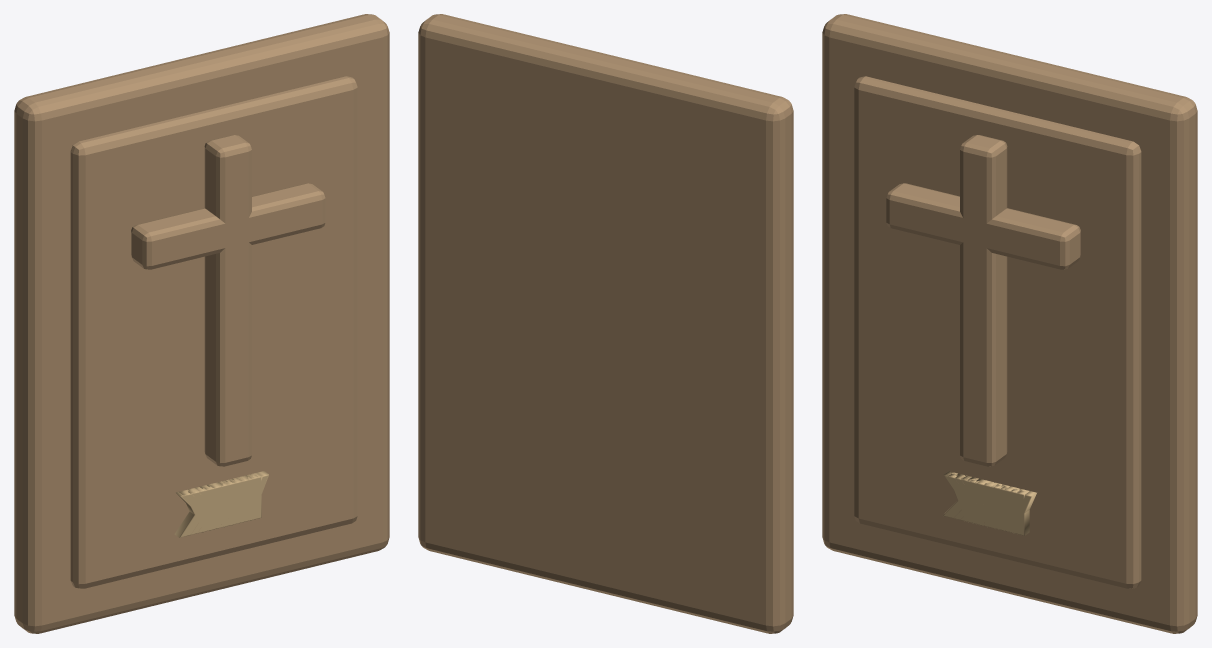
File: lotprop__lot_chapel_nave_station.glb
The picture shows the model from 3 angles, left to right: view 1: azimuth 30°, elevation 25°; view 2: azimuth 150°, elevation 25°; view 3: azimuth 330°, elevation 25°; orthographic projection.
Parts seen in each view (by area): view 1: lotprop__lot_chapel_nave_station; view 2: lotprop__lot_chapel_nave_station; view 3: lotprop__lot_chapel_nave_station.
Boxes of the visible parts, left/top/right/bottom form: lotprop__lot_chapel_nave_station: left=14, top=14, right=389, bottom=633; lotprop__lot_chapel_nave_station: left=418, top=14, right=793, bottom=633; lotprop__lot_chapel_nave_station: left=822, top=14, right=1197, bottom=633.
Bounding box in the file's own units: 0.36 × 0.5 × 0.0775.
